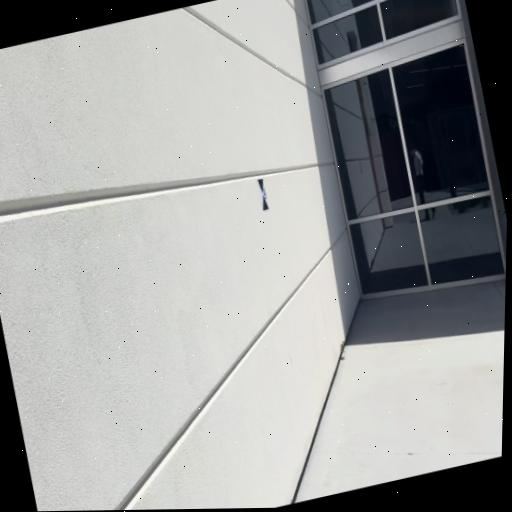target4: (256, 176, 270, 211)
